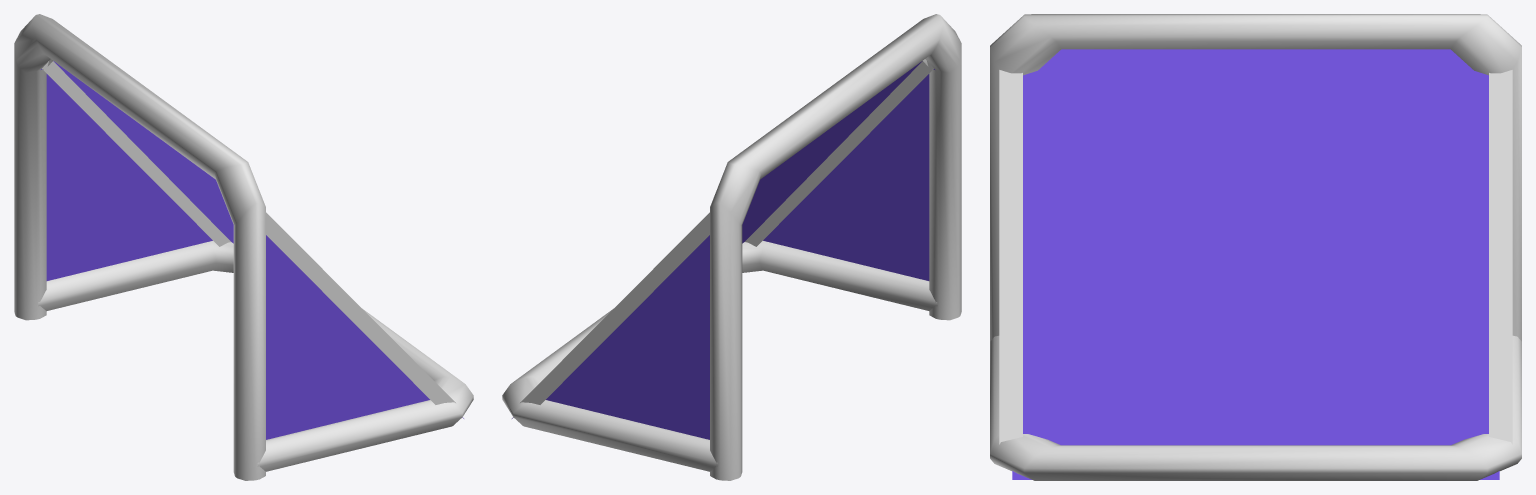
The model's file is mesh_but.fbx.
The picture shows the model from 3 angles, left to right: view 1: azimuth 30°, elevation 25°; view 2: azimuth 150°, elevation 25°; view 3: azimuth 270°, elevation 25°; orthographic projection. The views are drawn at different scales.
Visible parts, largest first — view 1: Plane.001; view 2: Plane.001; view 3: Plane.001.
Boxes of the visible parts, left/top/right/bottom form: Plane.001: left=14, top=14, right=473, bottom=480; Plane.001: left=502, top=14, right=961, bottom=480; Plane.001: left=990, top=14, right=1521, bottom=480.
Bounding box in the file's own units: 168 × 200 × 280.
